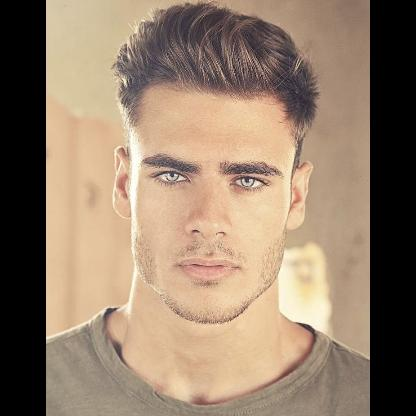Male: (112, 81, 312, 321)
